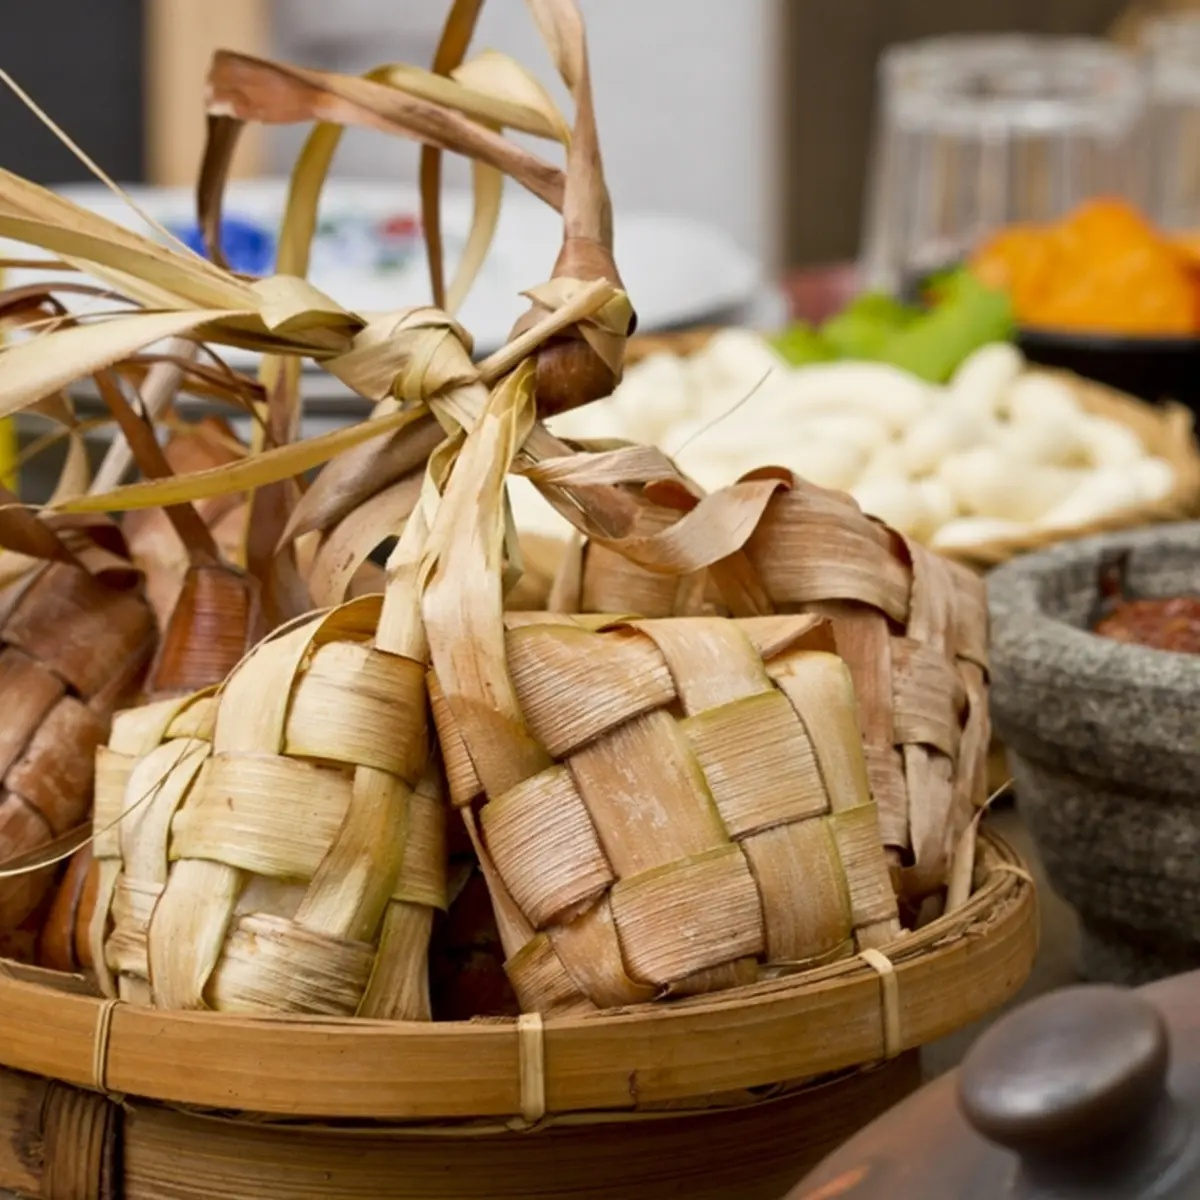ketupat: (421, 596, 929, 1005), (85, 627, 432, 1030)
